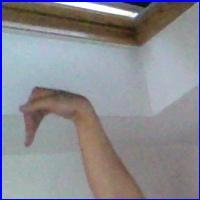del: (17, 83, 98, 155)
